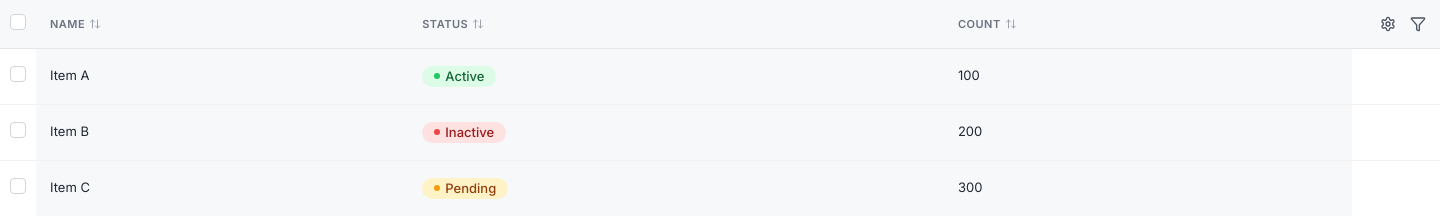
Scenario: ServerTable › context menu › shows context menu on right-click of a cell
Right-click the name cell (2nd td, after checkbox)
Right-click the cell "Item A" at (70, 75), box [36,48,408,104]
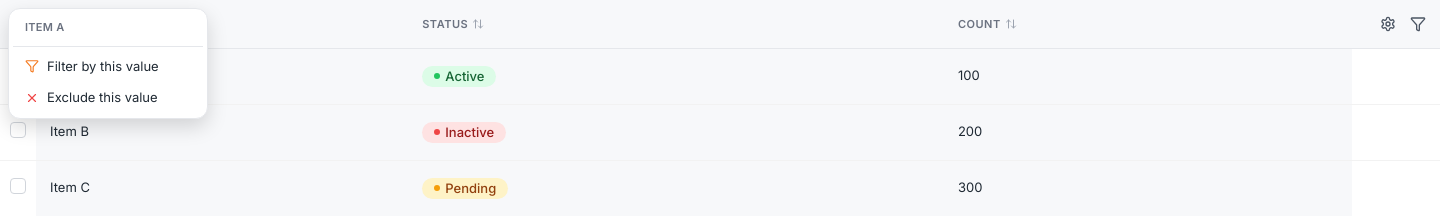
Expected: the text "Filter by this value" is shown, [47,56,159,76]
Expected: the text "Exclude this value" is shown, [47,88,158,108]
